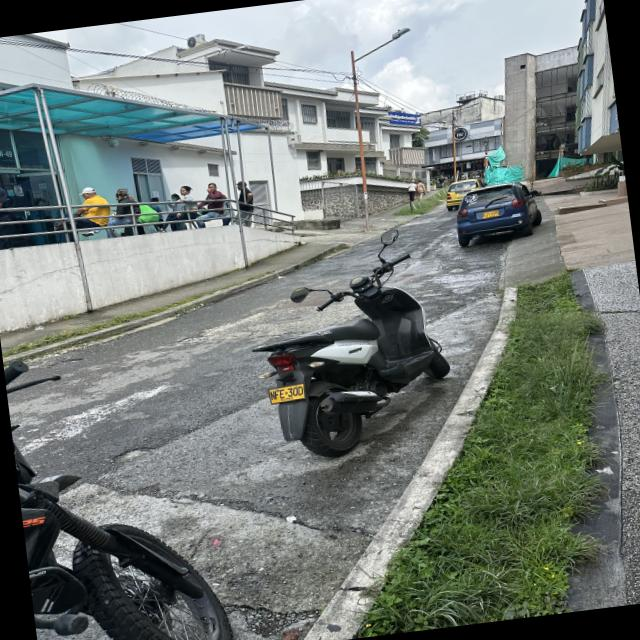number plate: (267, 383, 305, 403)
